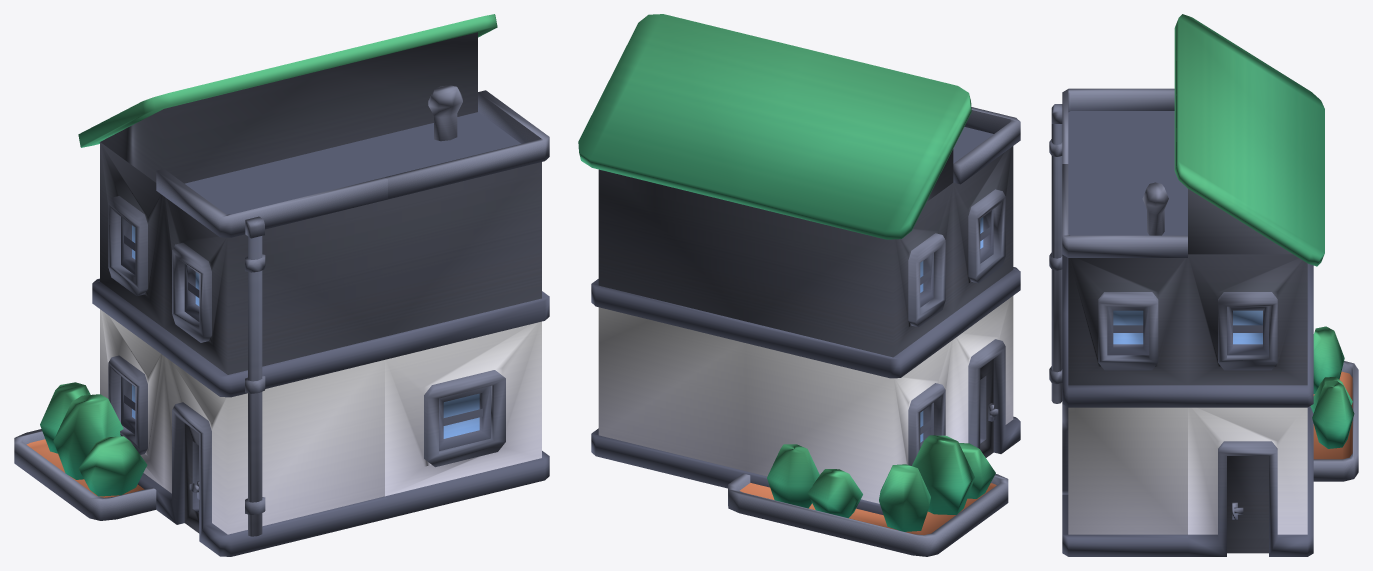
File: building-type-l_lev1.glb
The picture shows the model from 3 angles, left to right: view 1: azimuth 30°, elevation 25°; view 2: azimuth 150°, elevation 25°; view 3: azimuth 270°, elevation 25°; orthographic projection. The views are drawn at different scales.
Visible parts, largest first — view 1: building-type-l_lev1; view 2: building-type-l_lev1; view 3: building-type-l_lev1.
Boxes of the visible parts, bbox=[...] form: building-type-l_lev1: bbox=[14, 14, 549, 556]; building-type-l_lev1: bbox=[578, 14, 1020, 556]; building-type-l_lev1: bbox=[1049, 14, 1358, 556].
Size of the model in its own units: 7.9 by 7.9 by 5.64.
Materials: 1 (1 with a texture image).
